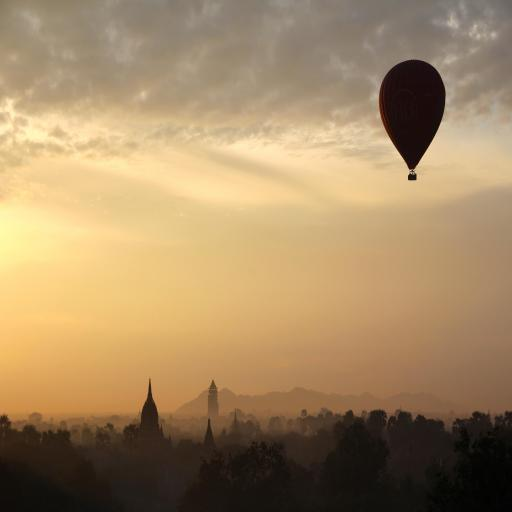hot air ballon: (378, 59, 446, 180)
